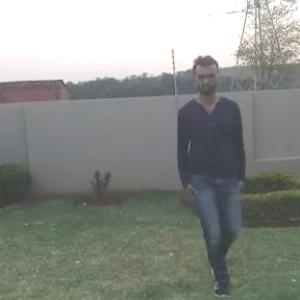follow: (173, 49, 244, 289)
